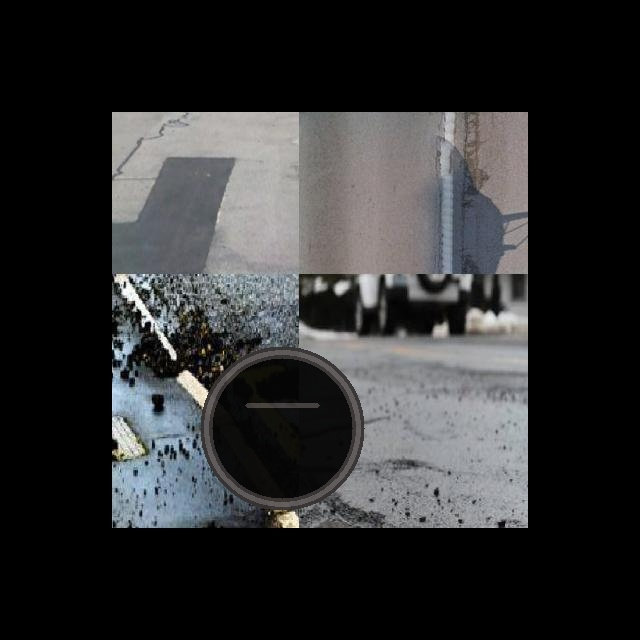open_manhole: (197, 343, 367, 513)
